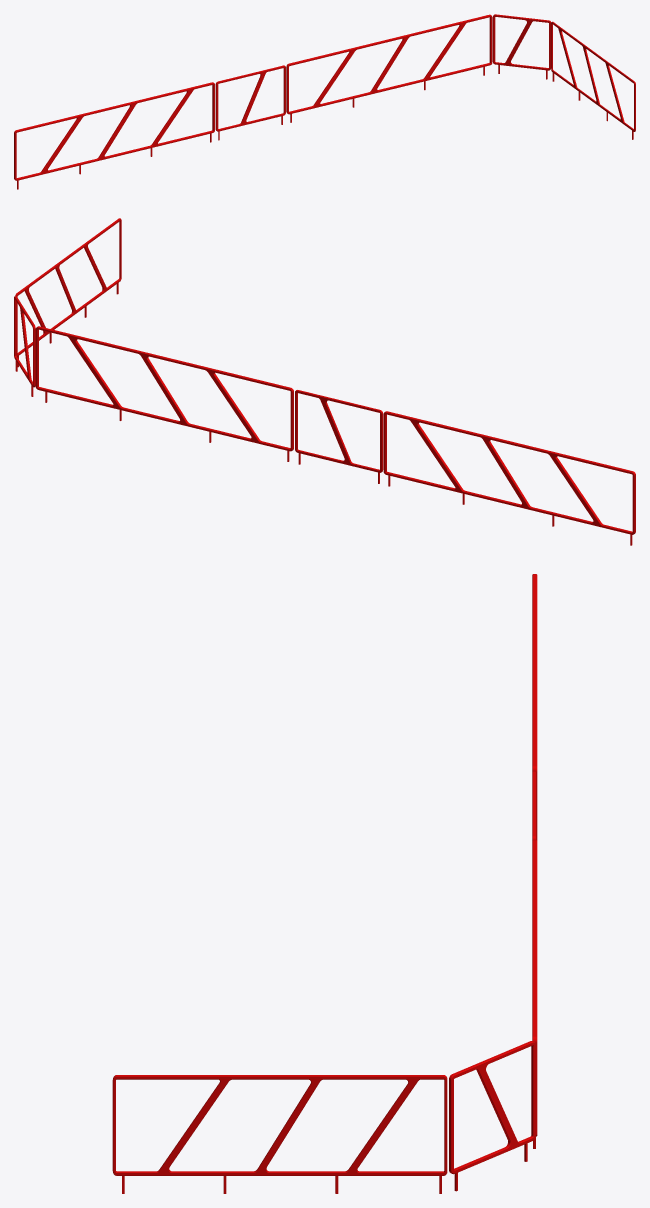
File: Perilla_2.fbx
3 renders of one model, top to bottom at view 1: azimuth 30°, elevation 25°; view 2: azimuth 150°, elevation 25°; view 3: azimuth 270°, elevation 25°, orthographic. The views are drawn at different scales.
Visible parts, largest first — view 1: L24:polySurface2172; view 2: L24:polySurface2172; view 3: L24:polySurface2172.
Part boxes in pixels (x1,y1,x2,y2): L24:polySurface2172: [14, 14, 635, 189]; L24:polySurface2172: [14, 218, 635, 545]; L24:polySurface2172: [112, 574, 537, 1193].
Size of the model in its own units: 1126 by 123 by 401.
